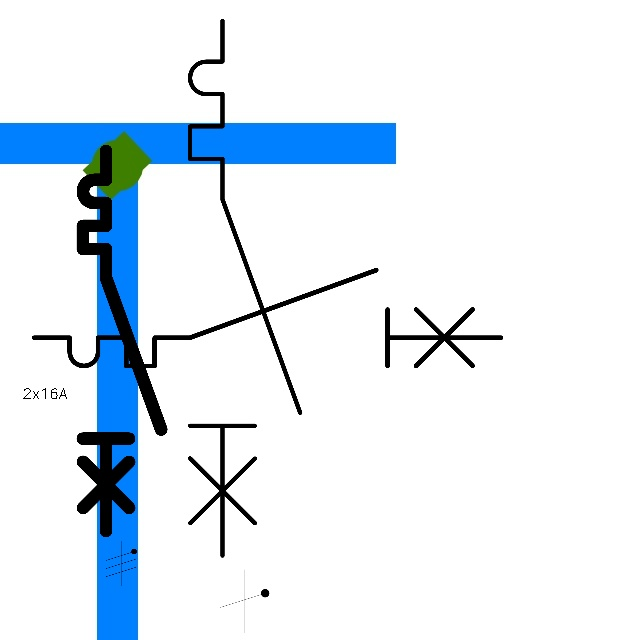interruptor_termomagnetico: (176, 7, 313, 569), (22, 258, 512, 378), (73, 141, 171, 540)
